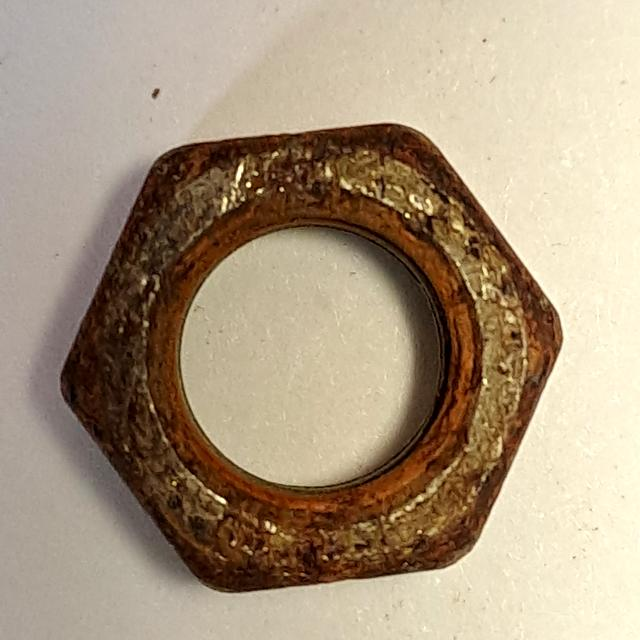Rust: (42, 113, 575, 606)
